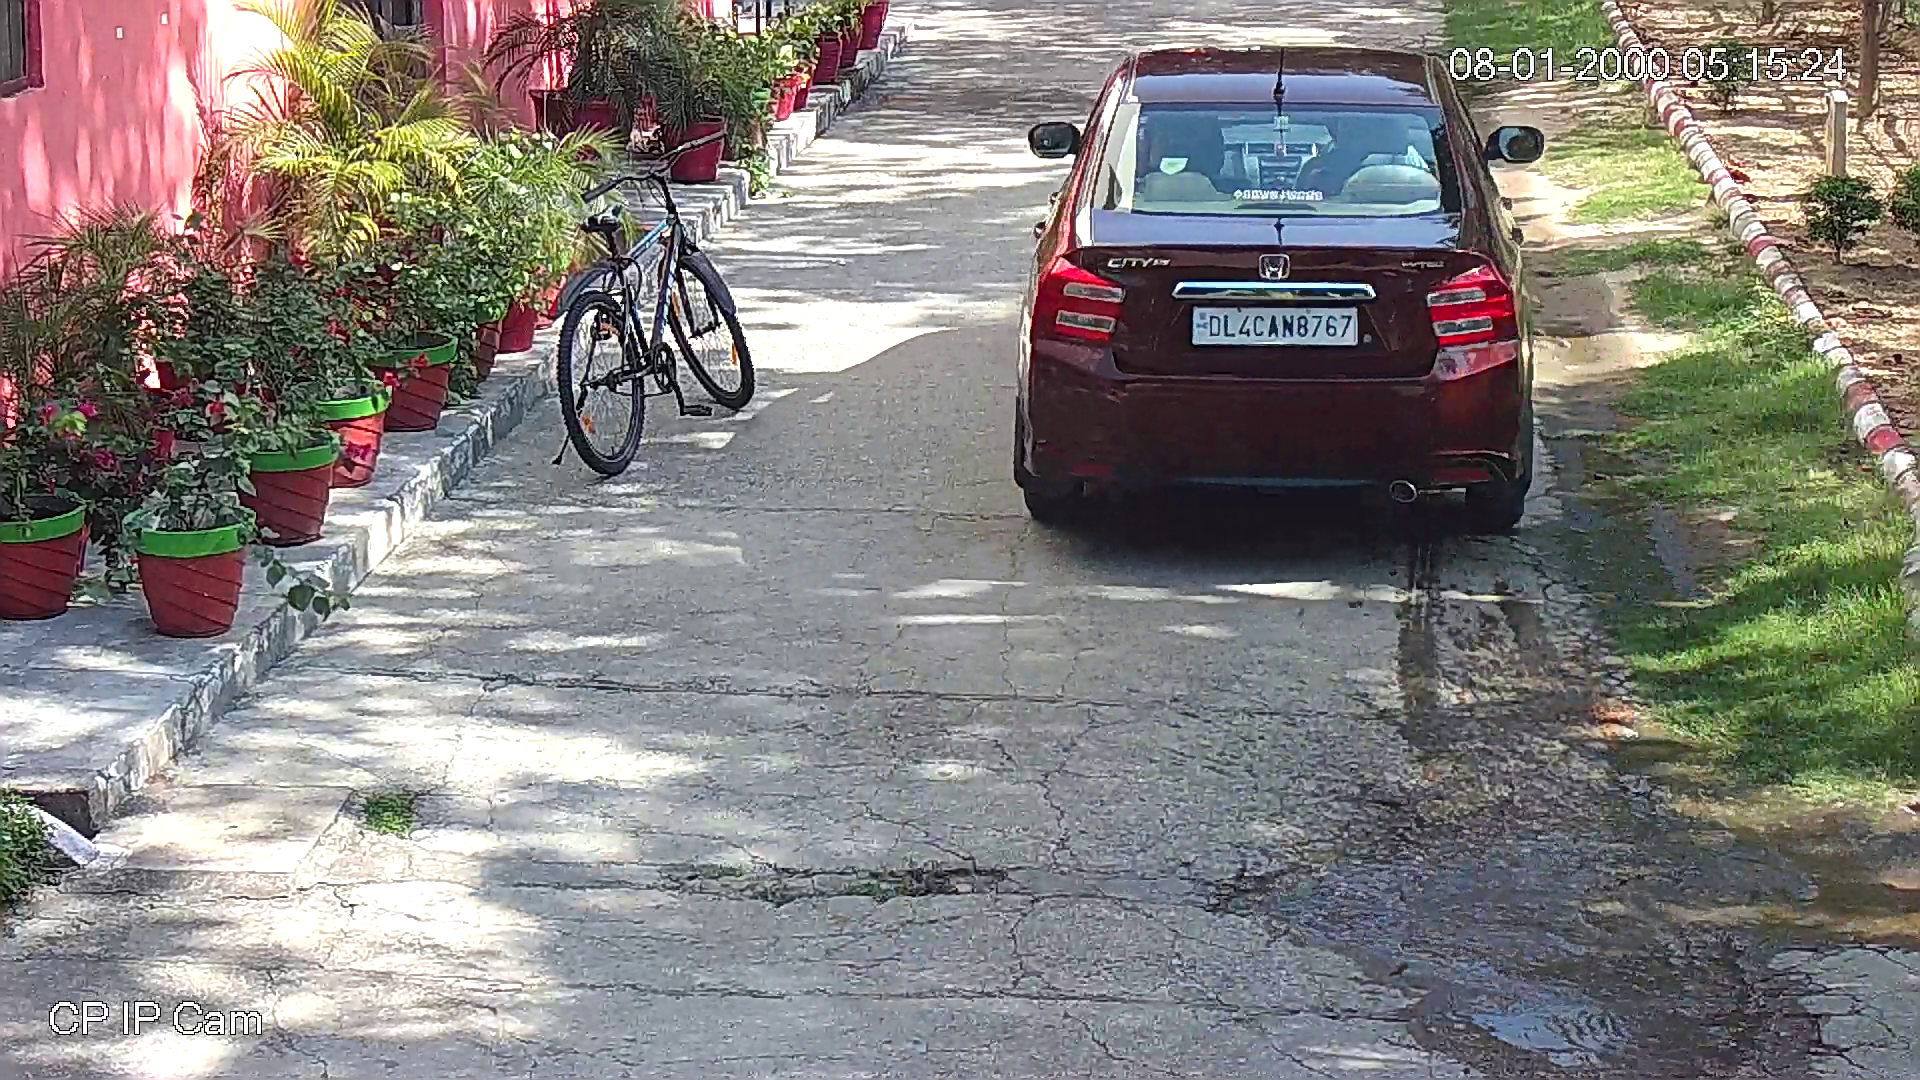plate: (1184, 298, 1364, 354)
